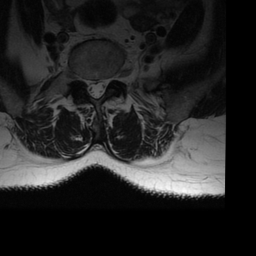CCS_normal: (92, 70, 100, 104)
LFS_severe_stenosis: (107, 67, 115, 89)
LLS_normal: (100, 70, 107, 100)
RFS_severe_stenosis: (78, 65, 86, 89)
RLS_normal: (86, 71, 92, 100)
